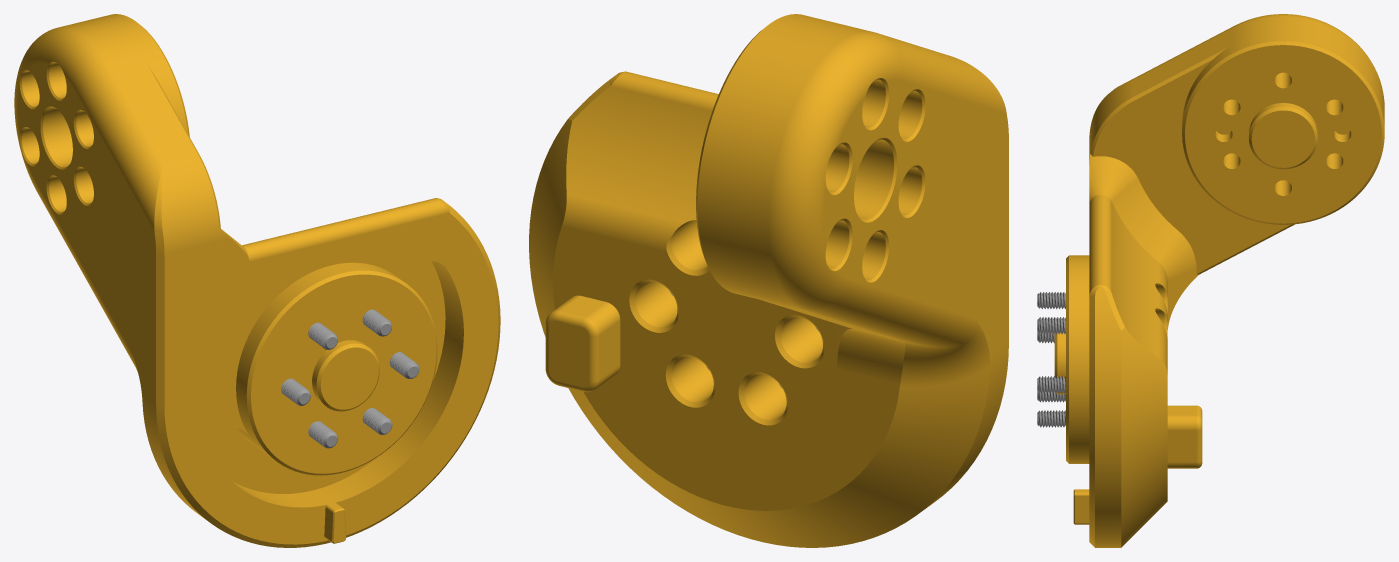
3 renders of one model, left to right at view 1: azimuth 30°, elevation 25°; view 2: azimuth 150°, elevation 25°; view 3: azimuth 270°, elevation 25°, orthographic. The views are drawn at different scales.
Parts seen in each view (by area): view 1: J1_2; view 2: J1_2; view 3: J1_2.
Boxes of the visible parts, <box> form: J1_2: <box>14,14,500,547</box>; J1_2: <box>529,14,1008,547</box>; J1_2: <box>1037,14,1384,547</box>.
Size of the model in its own units: 0.065 by 0.06 by 0.085.
